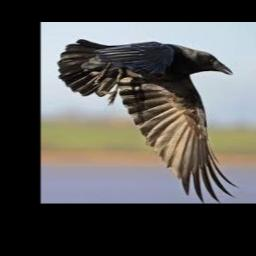Crow: (57, 40, 238, 203)
